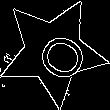O_NW: (20, 20, 86, 83)
